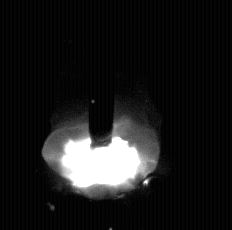arame: (90, 0, 115, 150)
poca: (40, 0, 161, 230)
